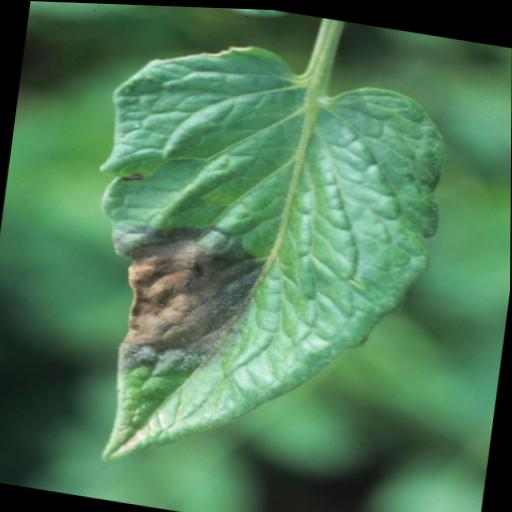Late Blight: (61, 22, 459, 508)
